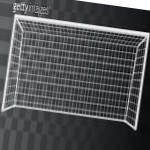goals: (2, 13, 149, 130)
